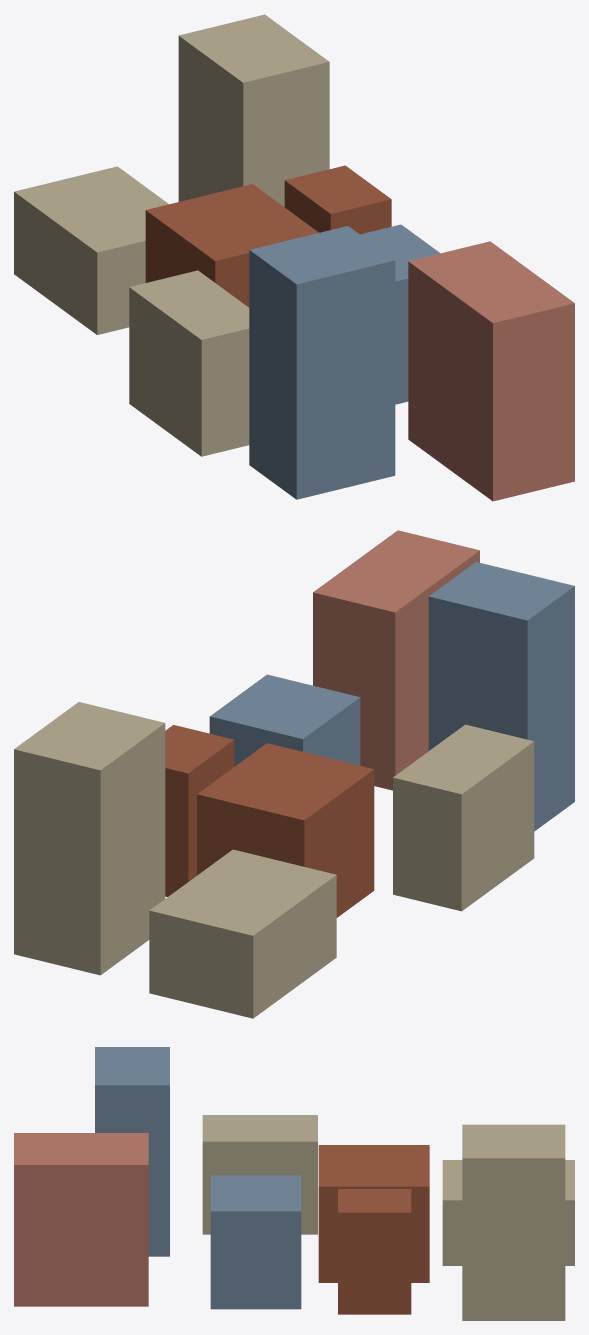
File: synth-00-08.lod2.glb
3 renders of one model, top to bottom at view 1: azimuth 30°, elevation 25°; view 2: azimuth 150°, elevation 25°; view 3: azimuth 270°, elevation 25°, orthographic. The views are drawn at different scales.
Visible parts, largest first — view 1: synth-00-08; view 2: synth-00-08; view 3: synth-00-08.
Boxes of the visible parts, x1,y1,x2,y2 form: synth-00-08: (14, 14, 574, 501); synth-00-08: (14, 530, 574, 1018); synth-00-08: (14, 1047, 574, 1320).
Bounding box in the file's own units: 43.62 × 30.83 × 91.5.
